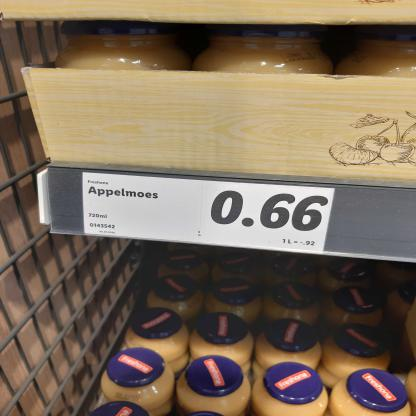prtg: (84, 174, 336, 256)
